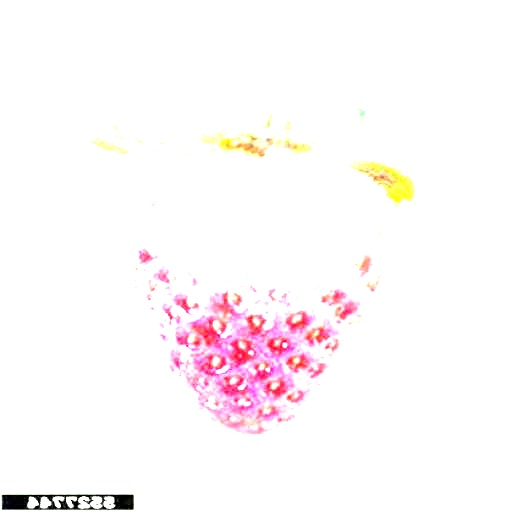Powdery Mildew Fruit: (126, 142, 404, 346)
